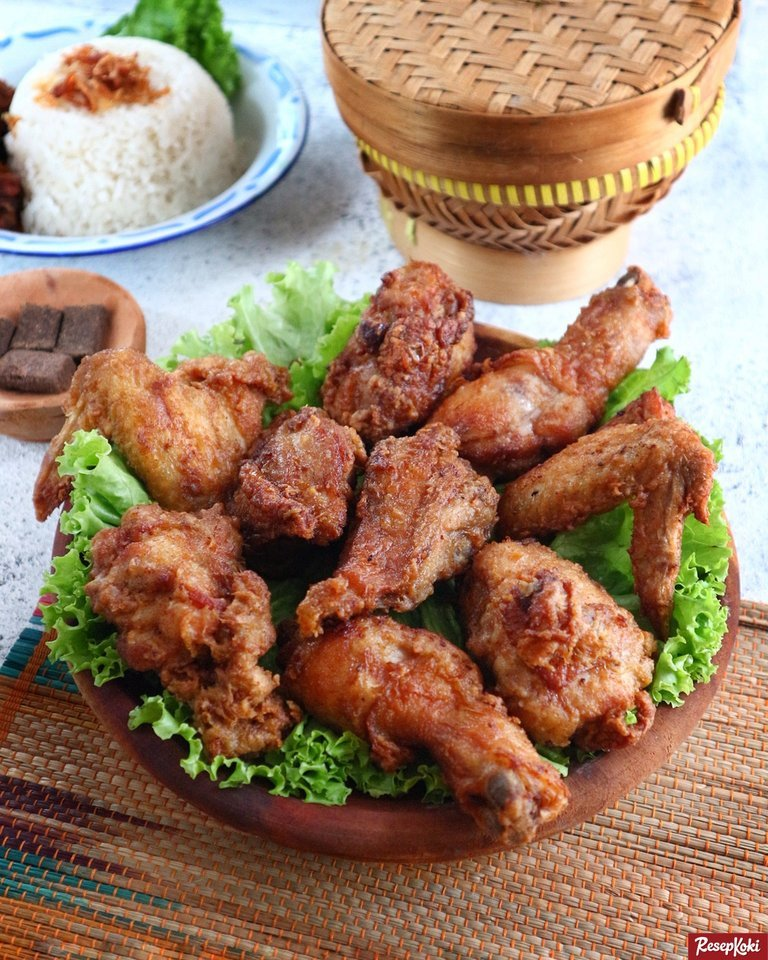Ayam: (289, 611, 531, 842), (450, 240, 686, 458), (504, 383, 737, 564), (34, 341, 272, 506), (310, 432, 491, 641)
